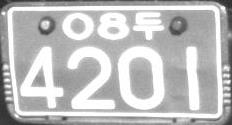0: (117, 45, 165, 110), (61, 11, 95, 41)
1: (172, 46, 213, 110)
2: (67, 45, 116, 109)
4: (20, 46, 64, 109)
8: (97, 12, 130, 40)
두: (133, 12, 164, 41)
